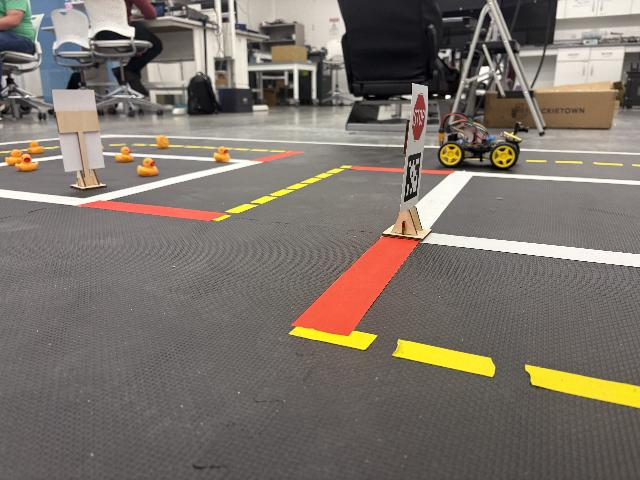duck: (136, 157, 163, 179), (15, 154, 41, 172), (213, 148, 232, 165), (113, 147, 134, 161), (6, 149, 23, 166), (27, 140, 45, 153), (156, 135, 171, 147)
redline: (297, 232, 414, 329), (87, 194, 226, 229), (250, 149, 305, 168), (346, 161, 404, 173), (426, 164, 451, 179)
stopsign: (403, 81, 433, 252)
whiteline: (436, 225, 640, 289), (482, 168, 640, 194), (0, 184, 84, 215), (164, 153, 213, 165), (168, 173, 223, 180), (116, 184, 169, 189), (438, 185, 462, 195), (44, 157, 66, 162)
yellowline: (299, 326, 640, 410), (232, 165, 353, 214), (524, 152, 640, 170)
